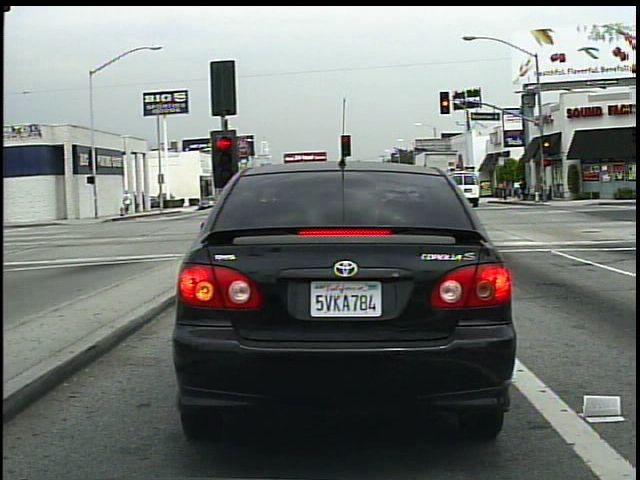person: (518, 175, 530, 202), (123, 188, 133, 217)
